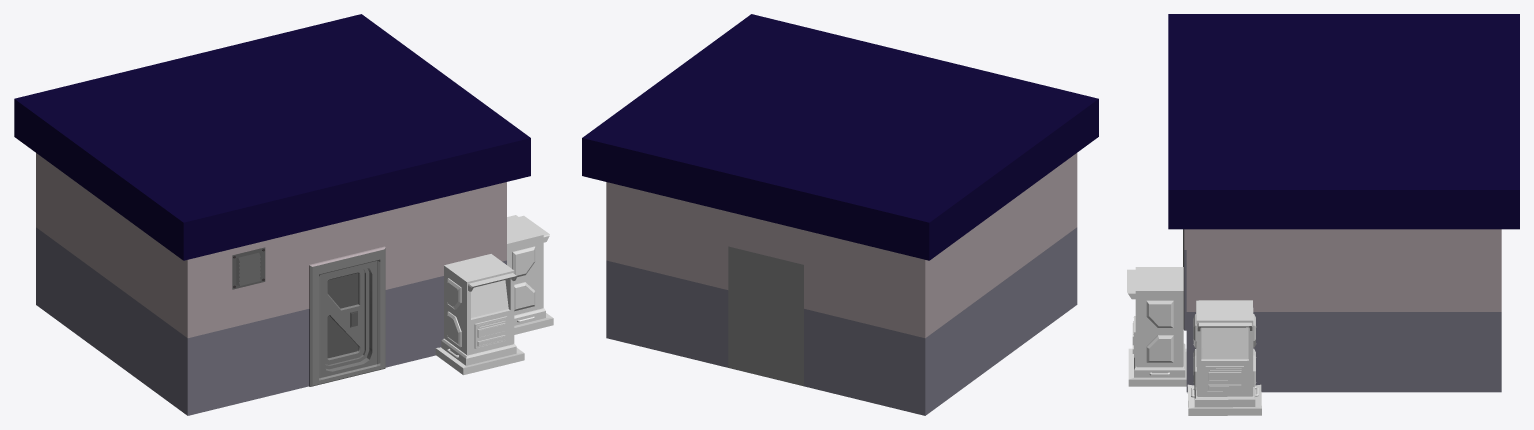
File: RoofRoom.fbx
3 renders of one model, left to right at view 1: azimuth 30°, elevation 25°; view 2: azimuth 150°, elevation 25°; view 3: azimuth 270°, elevation 25°, orthographic. The views are drawn at different scales.
Parts seen in each view (by area): view 1: Cube, Cube.001, polySurface2, Cube.008, Cylinder.046, Cube.002, Cube.010, Cube.011; view 2: Cube; view 3: Cube, Cube.008, Cube.001, Cube.009, Cube.004, Cube.003.
Part boxes in pixels (x1=…): Cube: x1=14, y1=14, x2=530, y2=415; Cube.001: x1=435, y1=254, x2=524, y2=375; polySurface2: x1=320, y1=261, x2=377, y2=377; Cube.008: x1=507, y1=215, x2=553, y2=334; Cylinder.046: x1=232, y1=247, x2=265, y2=289; Cube.002: x1=474, y1=316, x2=507, y2=348; Cube.010: x1=512, y1=246, x2=535, y2=277; Cube.011: x1=514, y1=282, x2=535, y2=311; Cube: x1=582, y1=14, x2=1098, y2=415; Cube: x1=1168, y1=14, x2=1519, y2=392; Cube.008: x1=1187, y1=300, x2=1261, y2=415; Cube.001: x1=1127, y1=267, x2=1186, y2=386; Cube.009: x1=1205, y1=366, x2=1243, y2=392; Cube.004: x1=1146, y1=335, x2=1173, y2=362; Cube.003: x1=1146, y1=300, x2=1173, y2=327.
Bounding box in the file's own units: 1448 × 748 × 1246.
